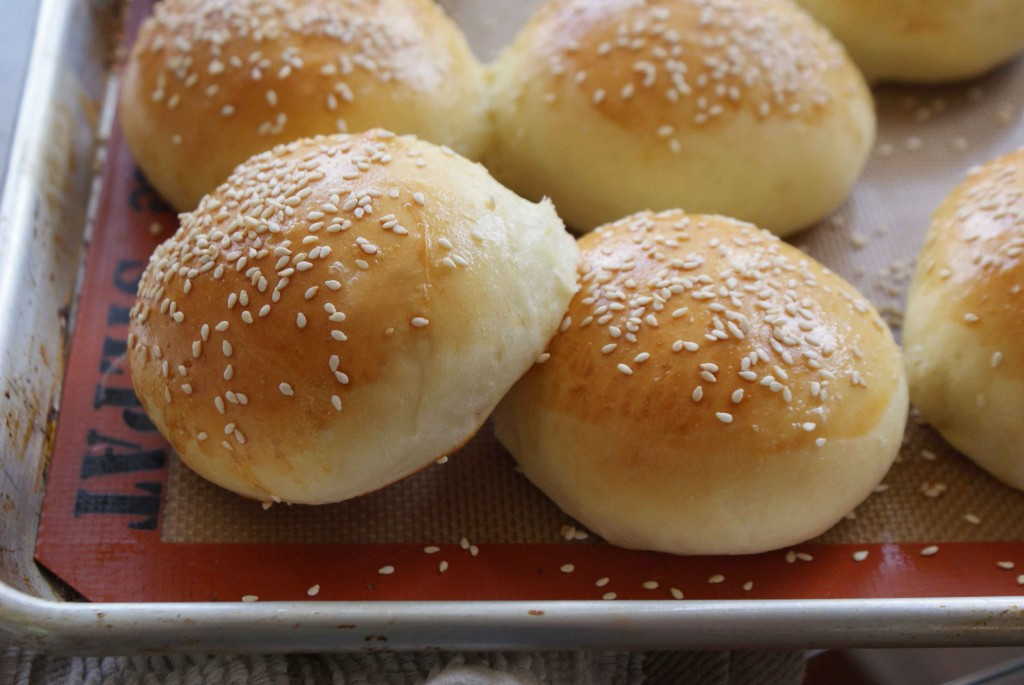hamburger_buns: (129, 1, 929, 253), (102, 125, 588, 525), (450, 149, 898, 574)
